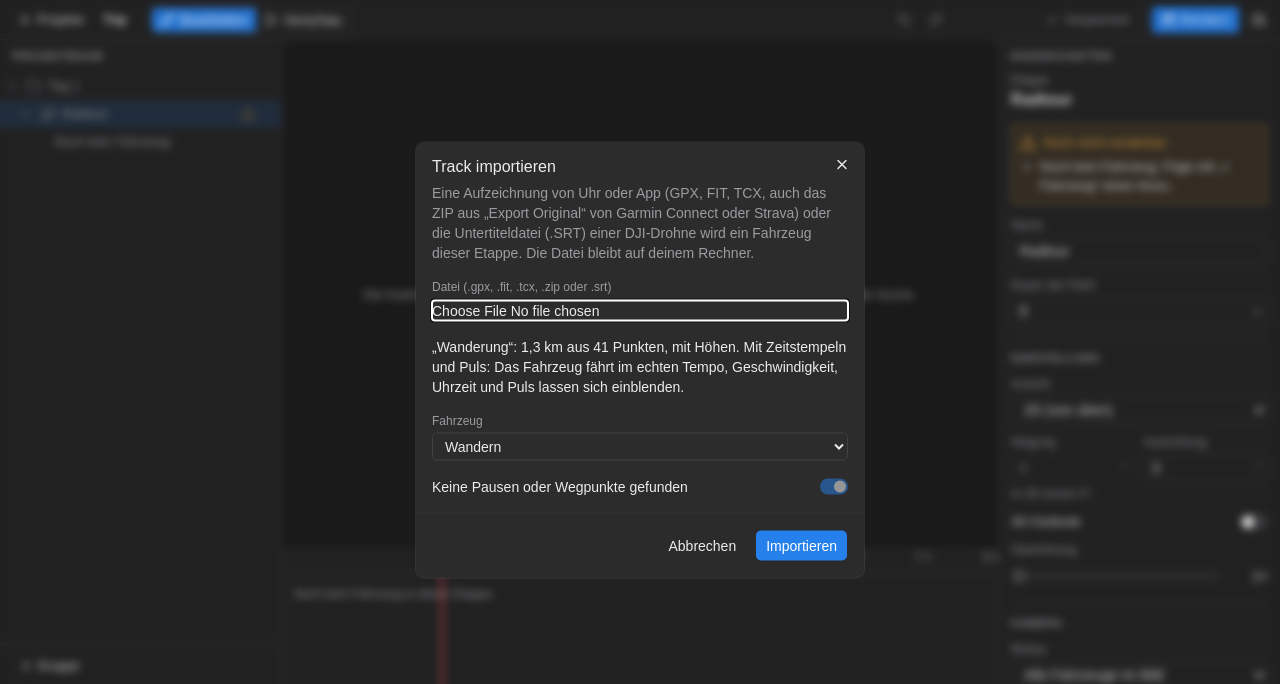
Test: importing a track › reads a FIT file from a watch and lets the vehicle move at the recorded pace (M16)
Earlier steps of the test are not shown.
Expected: the text "Mit Zeitstempeln und Puls" is shown, [432,338,846,394]
Expected: the dropdown labelled "Fahrzeug" shows "Wandern", [432,432,848,460]
Step 1. Click the button "Importieren" → (802, 546), box [755,530,848,562]
(page scrolled)
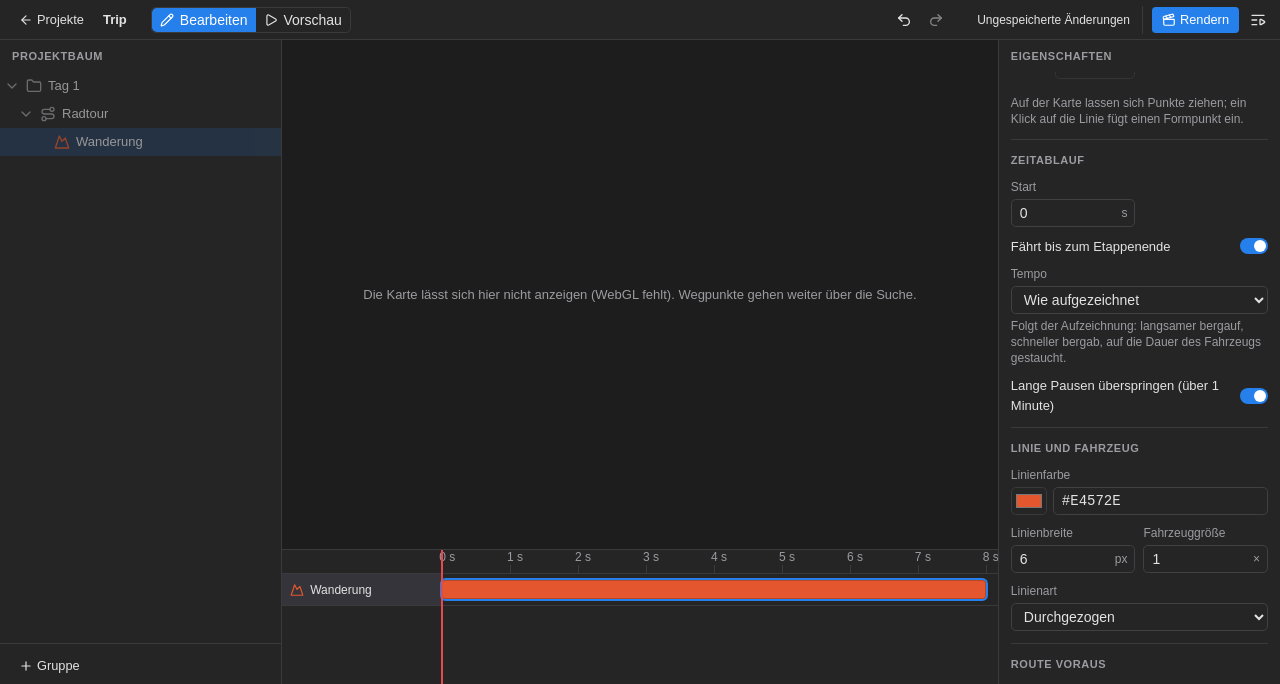
Now the list item "Wanderung" below "Radtour" is shown, box [0,128,281,156]
Now the dropdown labelled "Tempo" shows "Wie aufgezeichnet", box [1011,286,1268,314]
Now the switch labelled "Lange Pausen überspringen (über 1 Minute)" is checked, box [1240,388,1268,404]
